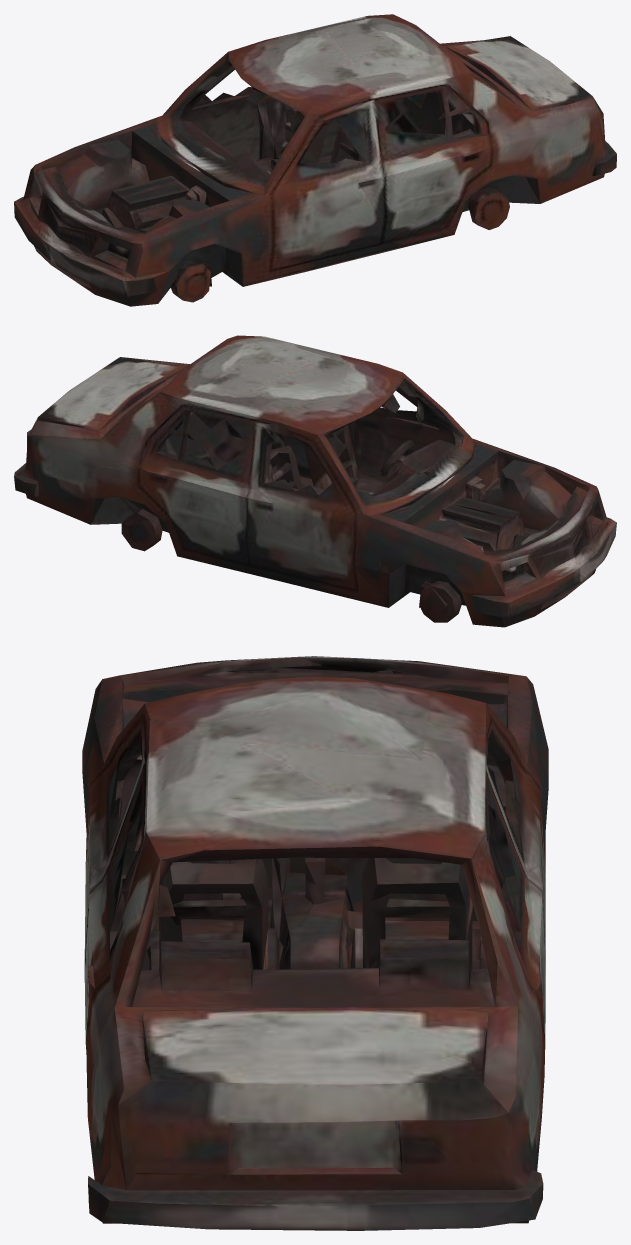
Rendered from prop_car.glb.
3 views of the same model, one above another, from view 1: azimuth 30°, elevation 25°; view 2: azimuth 150°, elevation 25°; view 3: azimuth 270°, elevation 25° (orthographic). The views are drawn at different scales.
Bounding box in the file's own units: 1.9 × 0.5808 × 0.7335.
1 material, 1 textured.
